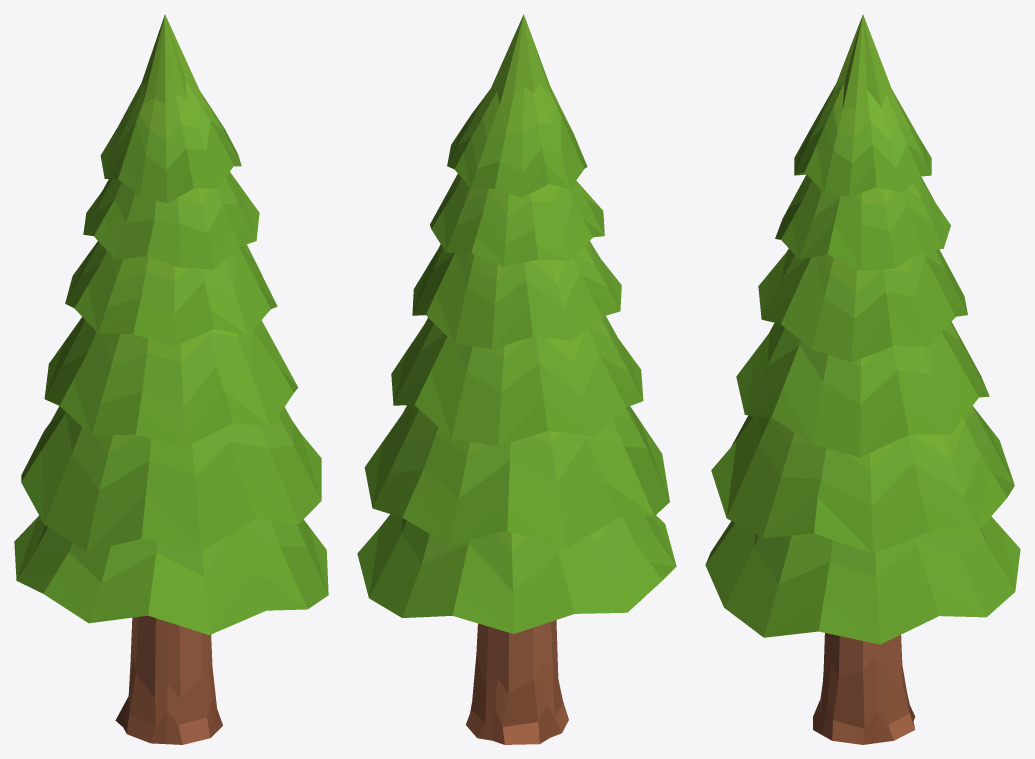
The picture shows the model from 3 angles, left to right: view 1: azimuth 30°, elevation 25°; view 2: azimuth 150°, elevation 25°; view 3: azimuth 270°, elevation 25°; orthographic projection.
Parts seen in each view (by area): view 1: Listva, stvol; view 2: Listva, stvol; view 3: Listva, stvol.
Part boxes in pixels (x1,y1,x2,y2): Listva: [14, 14, 328, 635]; stvol: [115, 615, 222, 744]; Listva: [357, 14, 676, 633]; stvol: [466, 620, 568, 744]; Listva: [705, 14, 1020, 644]; stvol: [813, 633, 915, 744].
Bounding box in the file's own units: 6.69 × 16.57 × 6.7.
1 material, 1 textured.
